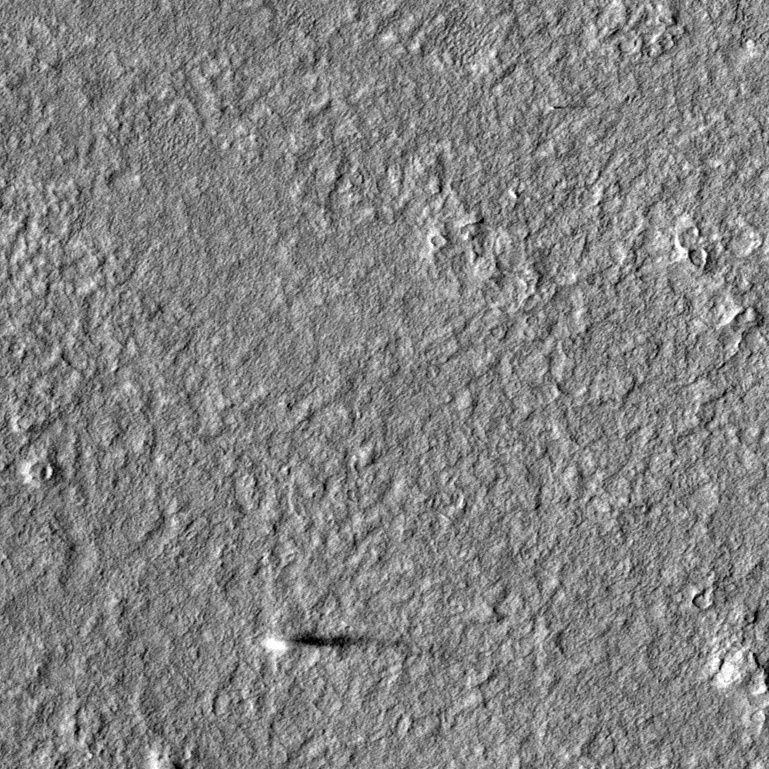dust_devil: (260, 629, 405, 659)
